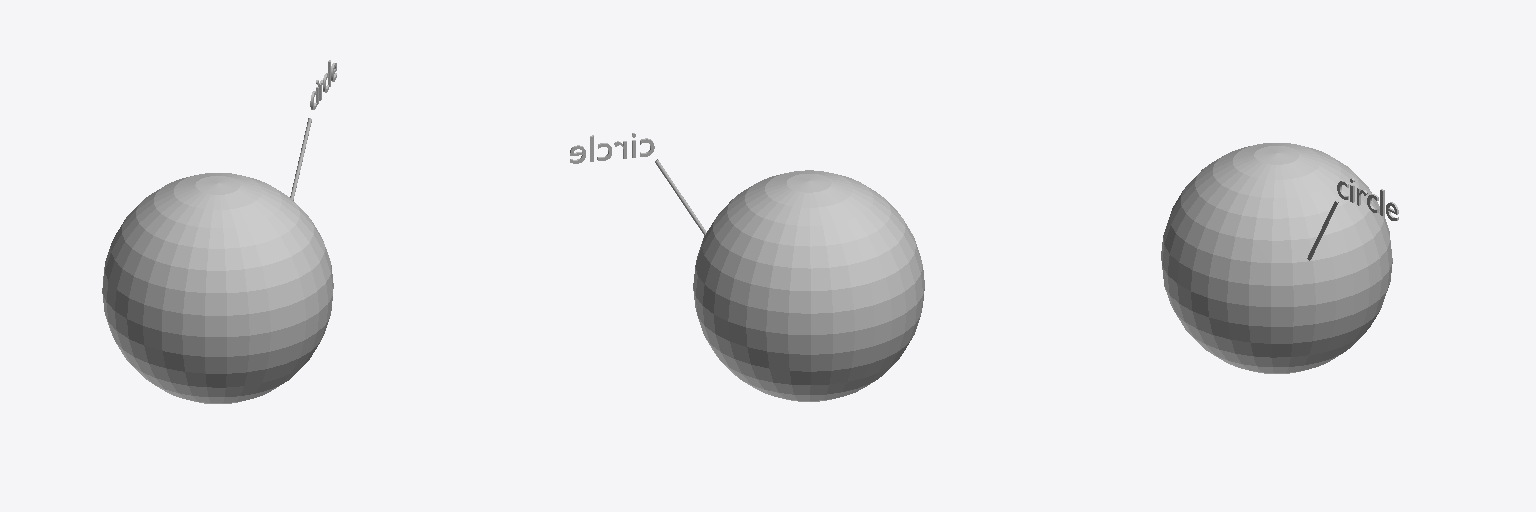
The model's file is modelTrack.obj.
3 renders of one model, left to right at view 1: azimuth 30°, elevation 25°; view 2: azimuth 150°, elevation 25°; view 3: azimuth 270°, elevation 25°, orthographic.
Parts seen in each view (by area): view 1: Sphere; view 2: Sphere, Text; view 3: Sphere, Text.
Part boxes in pixels (left/top/right/bottom): Sphere: left=102, top=173, right=333, bottom=403; Sphere: left=693, top=170, right=924, bottom=401; Text: left=570, top=133, right=654, bottom=163; Sphere: left=1161, top=143, right=1392, bottom=373; Text: left=1337, top=178, right=1398, bottom=220.
Bounding box in the file's own units: 2.78 × 2.41 × 2.05.